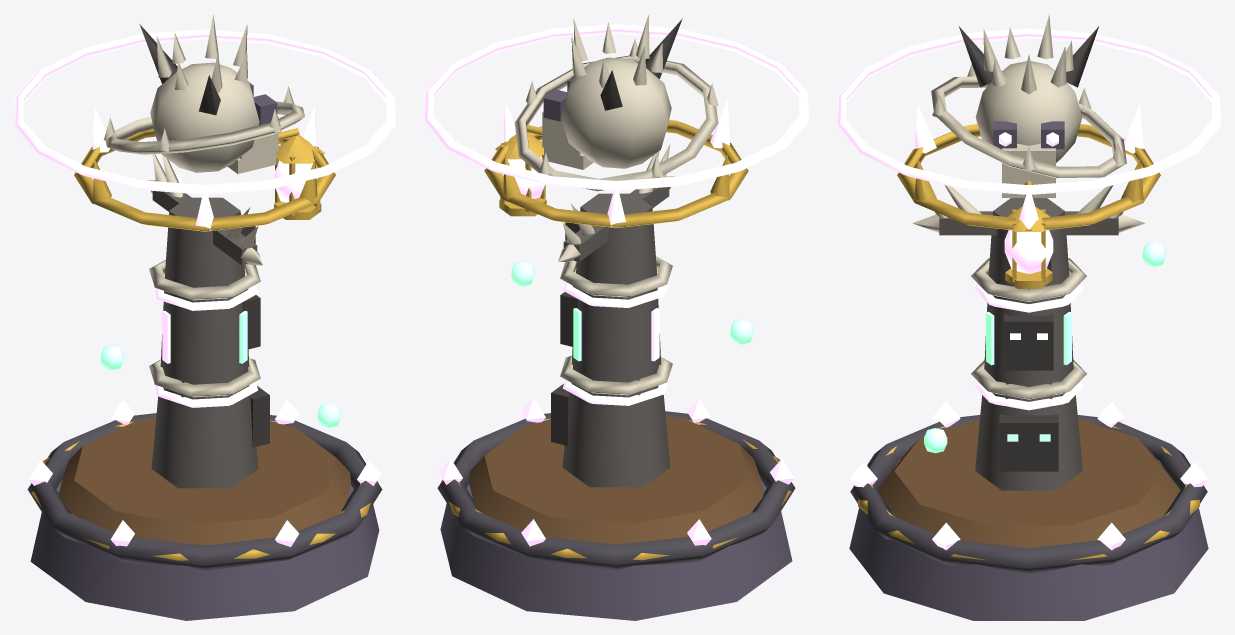
The model's file is tower_necromancer_soulLord_ultimate.glb.
3 views of the same model, side by side, from view 1: azimuth 30°, elevation 25°; view 2: azimuth 150°, elevation 25°; view 3: azimuth 270°, elevation 25° (orthographic).
Visible parts, largest first — view 1: grave_soil, base, base_rim, ult_halo, pole_0, skull_cranium, pole_1, pole_2, ult_crown_band, bone_orbit, bone_ring_1, bone_ring_0 (+12 smaller); view 2: grave_soil, base, base_rim, ult_halo, skull_cranium, pole_0, pole_1, pole_2, ult_crown_band, bone_orbit, bone_ring_1, bone_ring_0 (+14 smaller); view 3: grave_soil, base, base_rim, ult_halo, skull_cranium, pole_0, ult_crown_band, bone_orbit, pole_face_0, pole_1, pole_face_1, pole_2 (+14 smaller).
Boxes of the visible parts, x1=… form: grave_soil: x1=59, y1=418, x2=350, y2=545; base: x1=30, y1=480, x2=379, y2=620; base_rim: x1=27, y1=413, x2=382, y2=571; ult_halo: x1=14, y1=29, x2=395, y2=194; pole_0: x1=151, y1=385, x2=258, y2=488; skull_cranium: x1=150, y1=62, x2=259, y2=172; pole_1: x1=160, y1=275, x2=249, y2=384; pole_2: x1=165, y1=197, x2=244, y2=287; ult_crown_band: x1=74, y1=129, x2=335, y2=231; bone_orbit: x1=105, y1=101, x2=304, y2=154; bone_ring_1: x1=149, y1=260, x2=260, y2=300; bone_ring_0: x1=149, y1=358, x2=260, y2=397; grave_soil: x1=469, y1=416, x2=763, y2=544; base: x1=440, y1=479, x2=792, y2=620; base_rim: x1=437, y1=411, x2=795, y2=570; ult_halo: x1=424, y1=24, x2=808, y2=190; skull_cranium: x1=561, y1=57, x2=671, y2=168; pole_0: x1=562, y1=383, x2=670, y2=487; pole_1: x1=571, y1=272, x2=661, y2=382; pole_2: x1=576, y1=193, x2=656, y2=284; ult_crown_band: x1=484, y1=120, x2=748, y2=227; bone_orbit: x1=514, y1=55, x2=718, y2=191; bone_ring_1: x1=560, y1=256, x2=672, y2=297; bone_ring_0: x1=560, y1=355, x2=672, y2=395; grave_soil: x1=877, y1=419, x2=1180, y2=548; base: x1=849, y1=459, x2=1208, y2=620; base_rim: x1=850, y1=415, x2=1207, y2=574; ult_halo: x1=837, y1=28, x2=1220, y2=194; skull_cranium: x1=975, y1=61, x2=1082, y2=162; pole_0: x1=975, y1=393, x2=1082, y2=490; ult_crown_band: x1=897, y1=124, x2=1160, y2=230; bone_orbit: x1=931, y1=76, x2=1126, y2=177; pole_face_0: x1=999, y1=414, x2=1058, y2=471; pole_1: x1=984, y1=278, x2=1073, y2=386; pole_face_1: x1=1004, y1=313, x2=1053, y2=370; pole_2: x1=988, y1=198, x2=1069, y2=289.
Bounding box in the file's own units: 0.434 × 0.634 × 0.4274.
